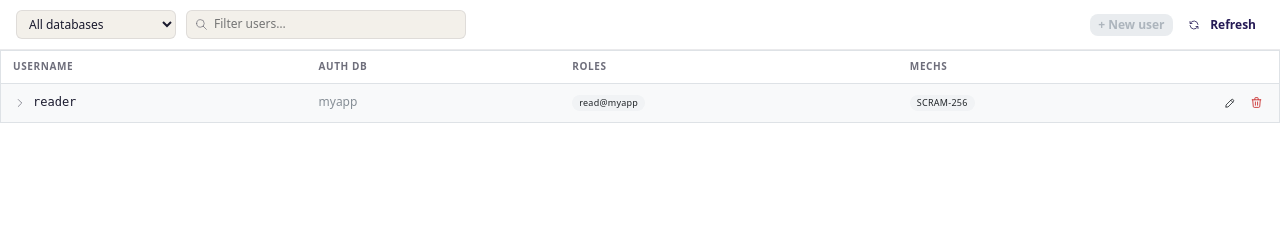
UsersTab — render › expands the drill-down with mechanism + role details
Click the button "reader" at (45,102), box [13,93,76,112]
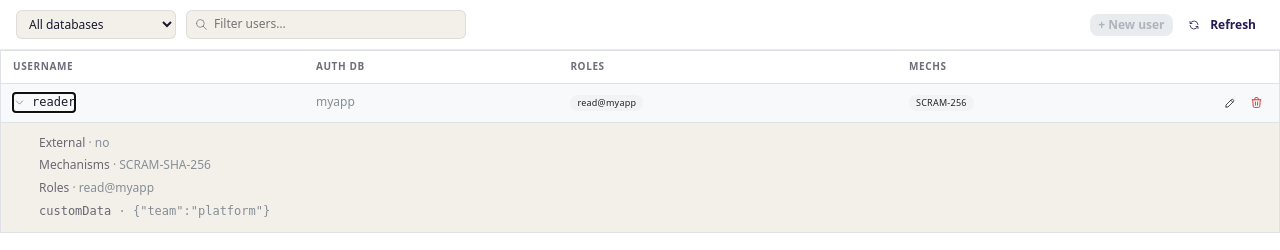
Expected: the text "Mechanisms" is shown, [39,156,110,173]
Expected: the text "customData" is shown, [39,204,111,218]
